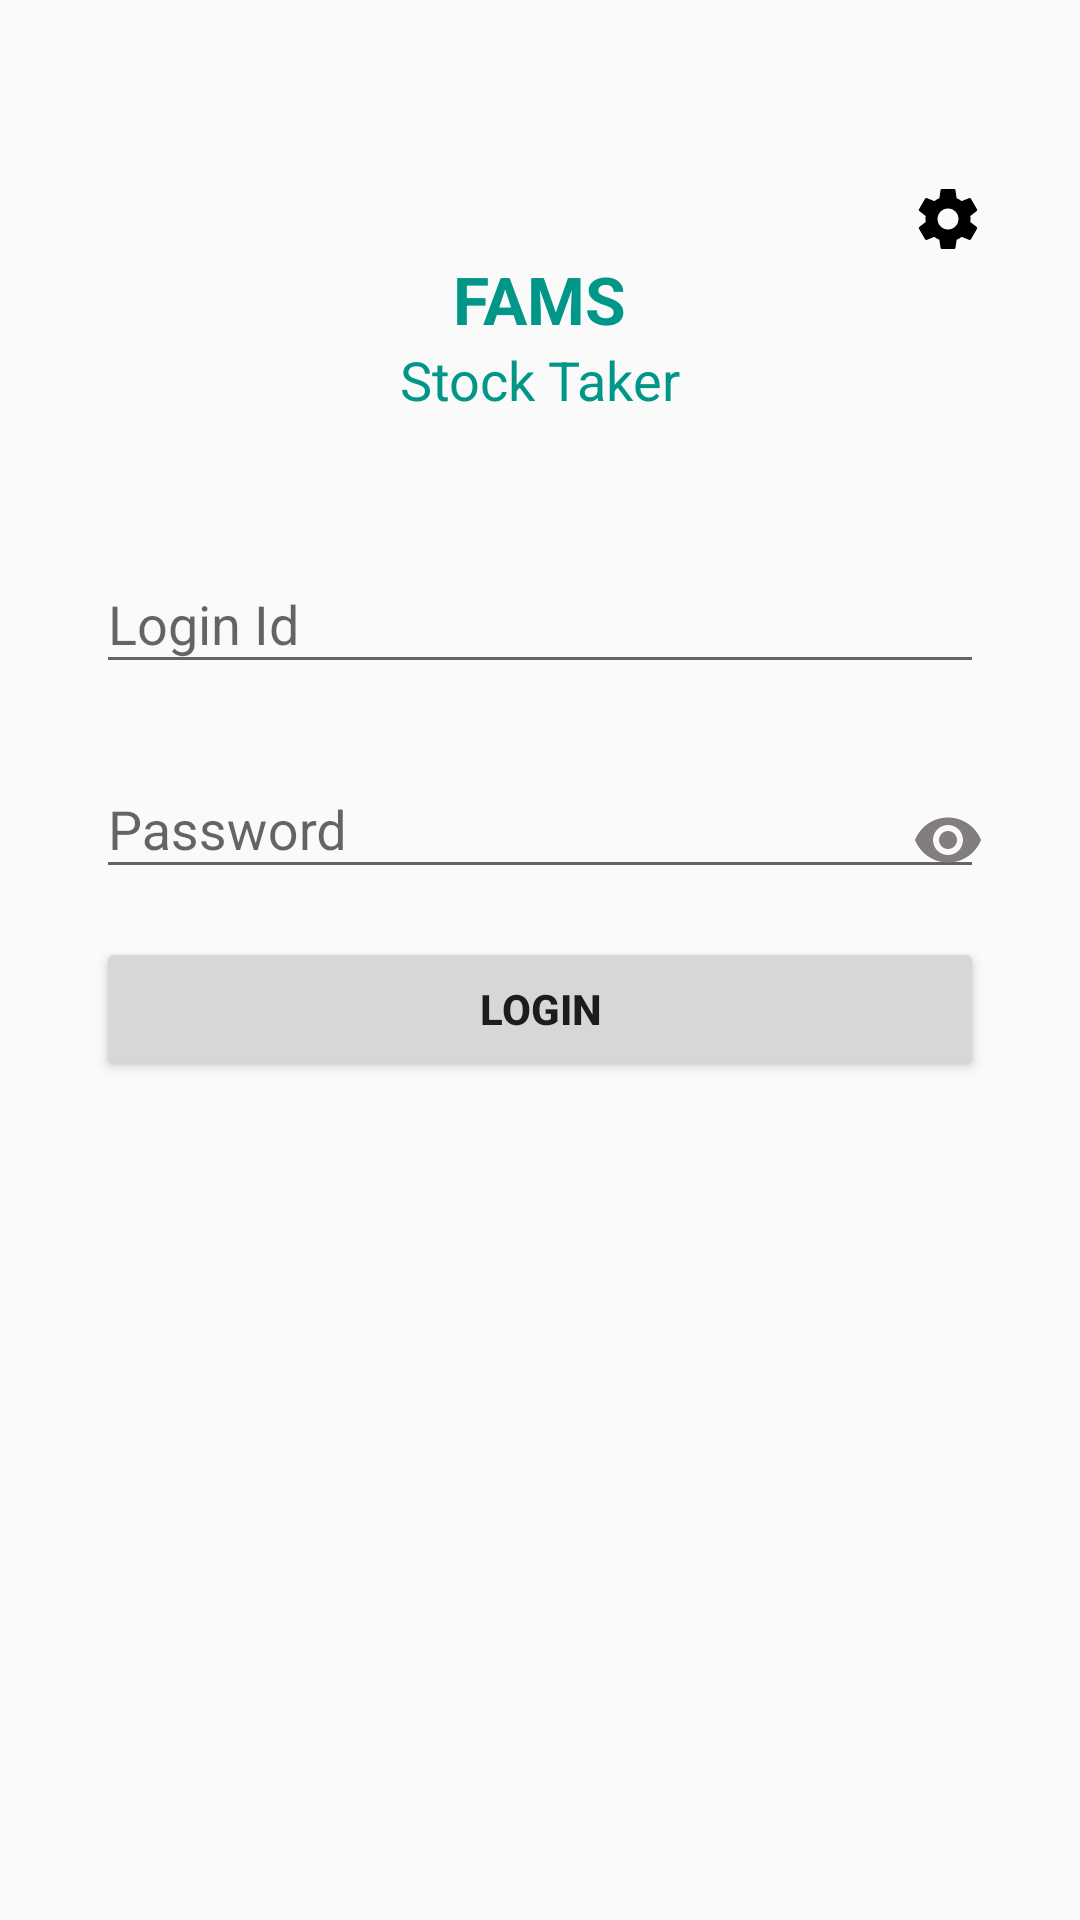

Where icons sit on this 1080px x 1920px app screen, as (x1, y1, x2, y2):
Server Setting: (918, 189, 977, 249)
